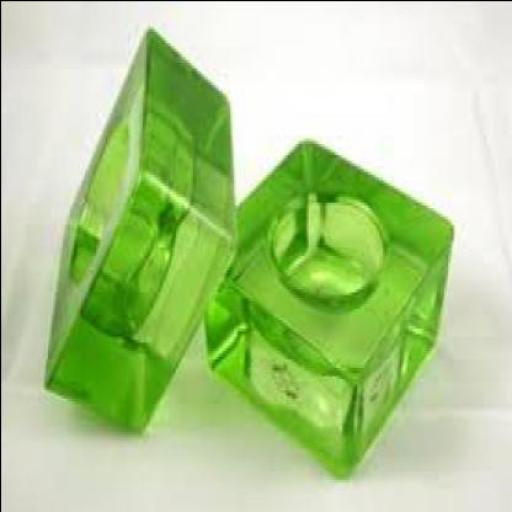glass: (206, 136, 454, 478), (44, 23, 236, 434)
